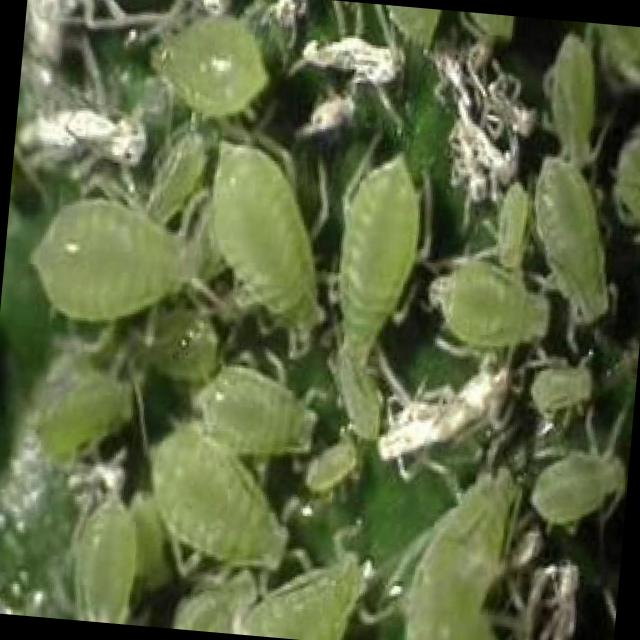aphid: (174, 122, 346, 372), (130, 408, 314, 588), (6, 176, 202, 338), (315, 129, 435, 375), (508, 143, 632, 346), (178, 345, 348, 482), (416, 231, 564, 371), (142, 2, 280, 129), (520, 422, 632, 538), (534, 24, 620, 172), (23, 360, 136, 470), (56, 492, 148, 626)
